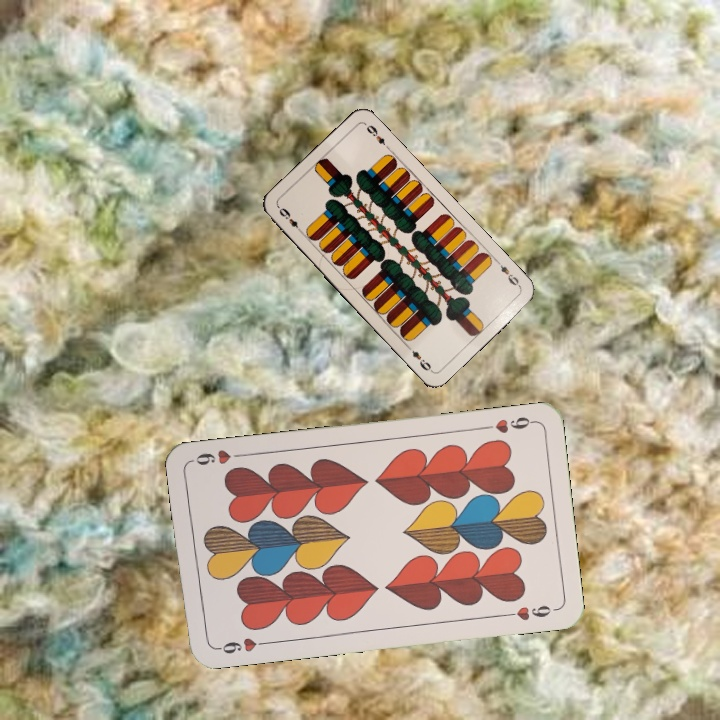E9: (274, 203, 305, 236), (492, 257, 523, 290)
H9: (478, 412, 537, 436), (211, 633, 270, 657)
